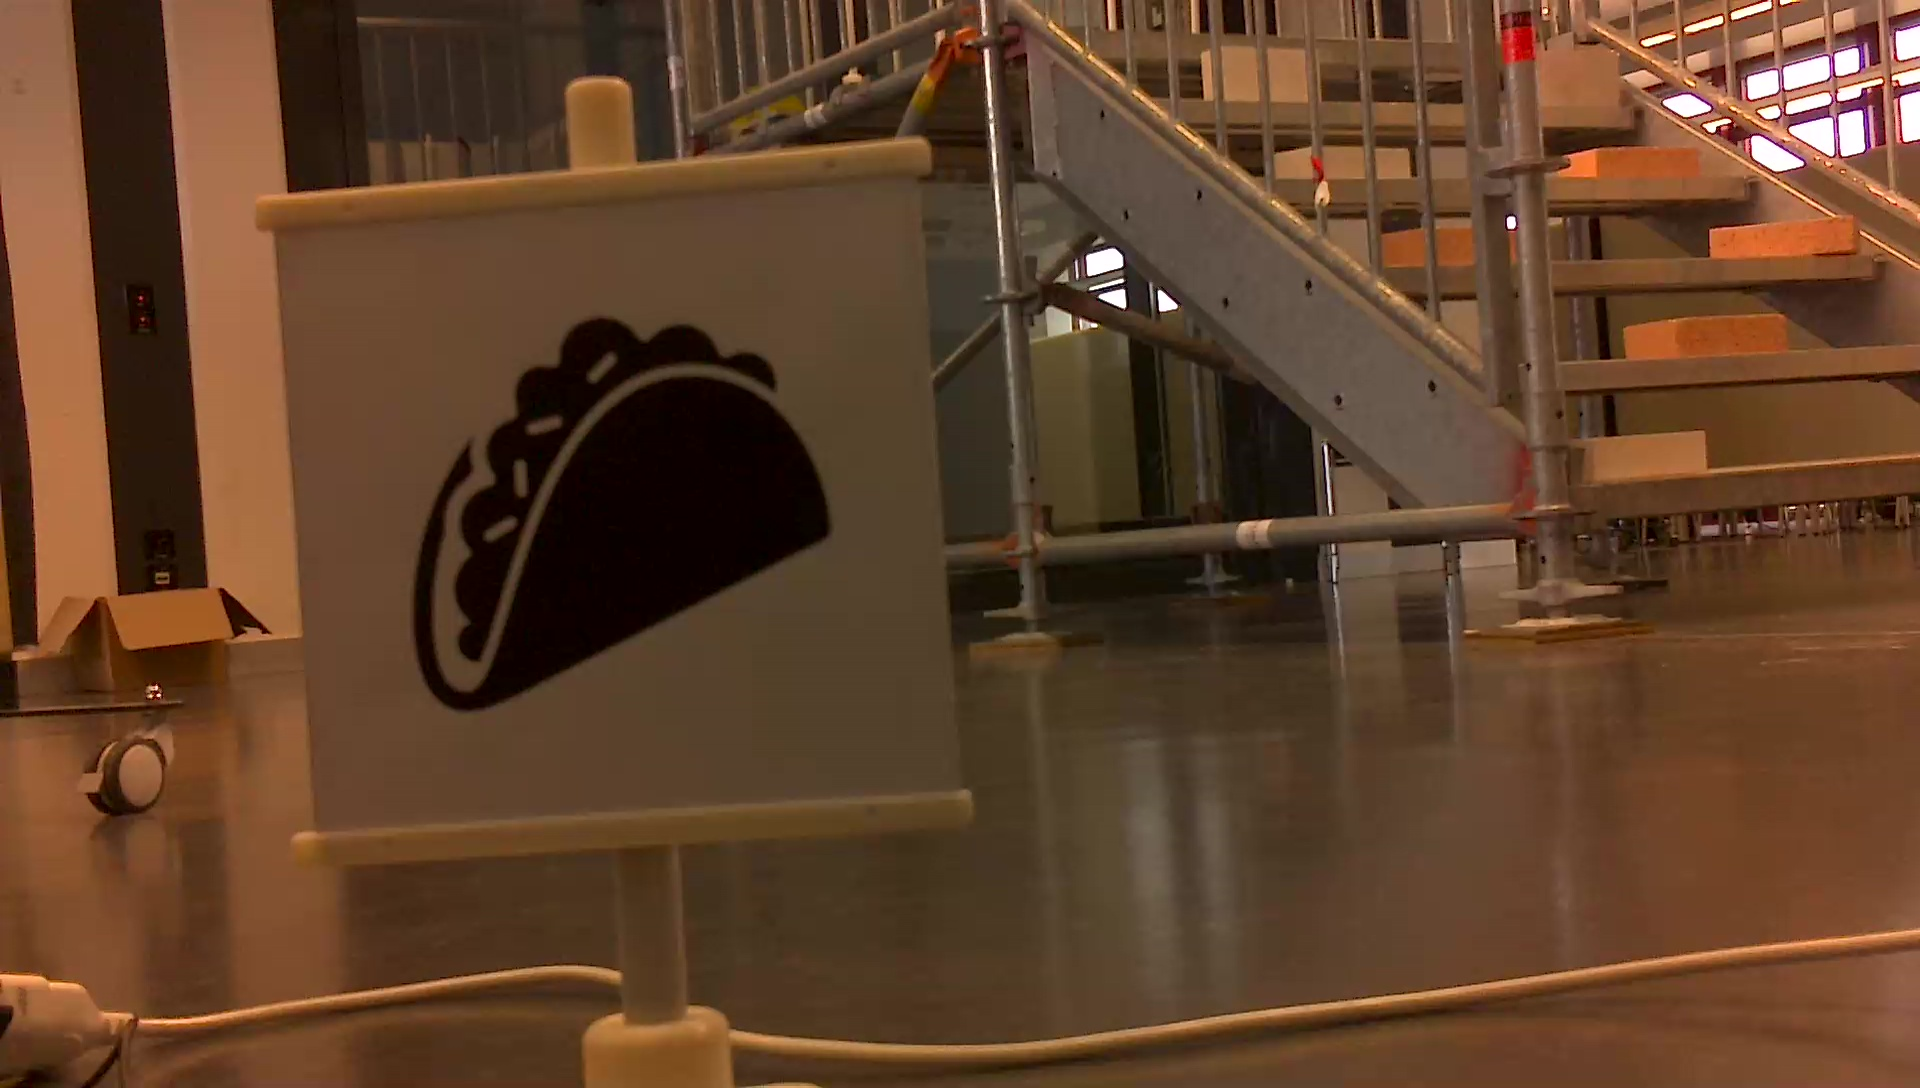brick: (996, 0, 1920, 678), (1371, 247, 1882, 284), (1073, 26, 1534, 55), (1254, 177, 1762, 198), (1158, 104, 1627, 125), (1615, 306, 1780, 361), (1581, 426, 1726, 483), (1695, 196, 1858, 247), (1201, 41, 1319, 102), (1524, 357, 1920, 375), (1369, 214, 1497, 266), (1509, 47, 1604, 102), (1276, 137, 1408, 175), (1548, 146, 1700, 175)
taco: (407, 301, 841, 713)
